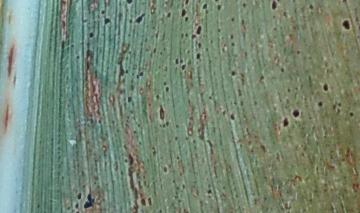tarspot: (84, 194, 94, 209), (136, 13, 145, 23), (342, 20, 351, 30), (282, 117, 289, 128), (292, 109, 300, 118), (270, 1, 277, 11), (125, 95, 133, 103), (322, 83, 329, 92), (140, 198, 147, 207), (147, 196, 153, 206), (180, 8, 187, 16), (195, 52, 202, 60), (196, 41, 203, 49), (216, 4, 223, 12), (103, 18, 112, 24), (197, 25, 202, 35), (137, 71, 144, 78), (190, 33, 197, 40), (229, 15, 236, 22), (162, 166, 169, 173), (166, 10, 172, 18), (202, 3, 208, 11), (99, 9, 106, 15), (76, 192, 82, 199), (230, 113, 236, 120), (181, 64, 187, 71), (184, 1, 191, 7), (164, 120, 170, 127), (294, 49, 301, 55), (174, 57, 179, 65), (317, 101, 323, 107), (348, 111, 354, 117), (308, 3, 314, 9), (123, 157, 129, 163), (89, 31, 94, 38), (155, 93, 160, 100), (180, 32, 185, 39), (74, 203, 79, 209), (231, 70, 236, 76), (165, 86, 170, 92), (242, 2, 247, 8), (332, 104, 337, 110), (337, 102, 342, 108), (76, 53, 80, 60), (281, 67, 285, 74), (207, 189, 212, 194), (162, 81, 167, 86), (230, 42, 235, 47), (207, 95, 212, 100), (184, 15, 188, 21), (126, 1, 133, 4), (185, 33, 189, 38), (230, 34, 234, 39), (125, 69, 129, 74), (341, 1, 347, 3)
